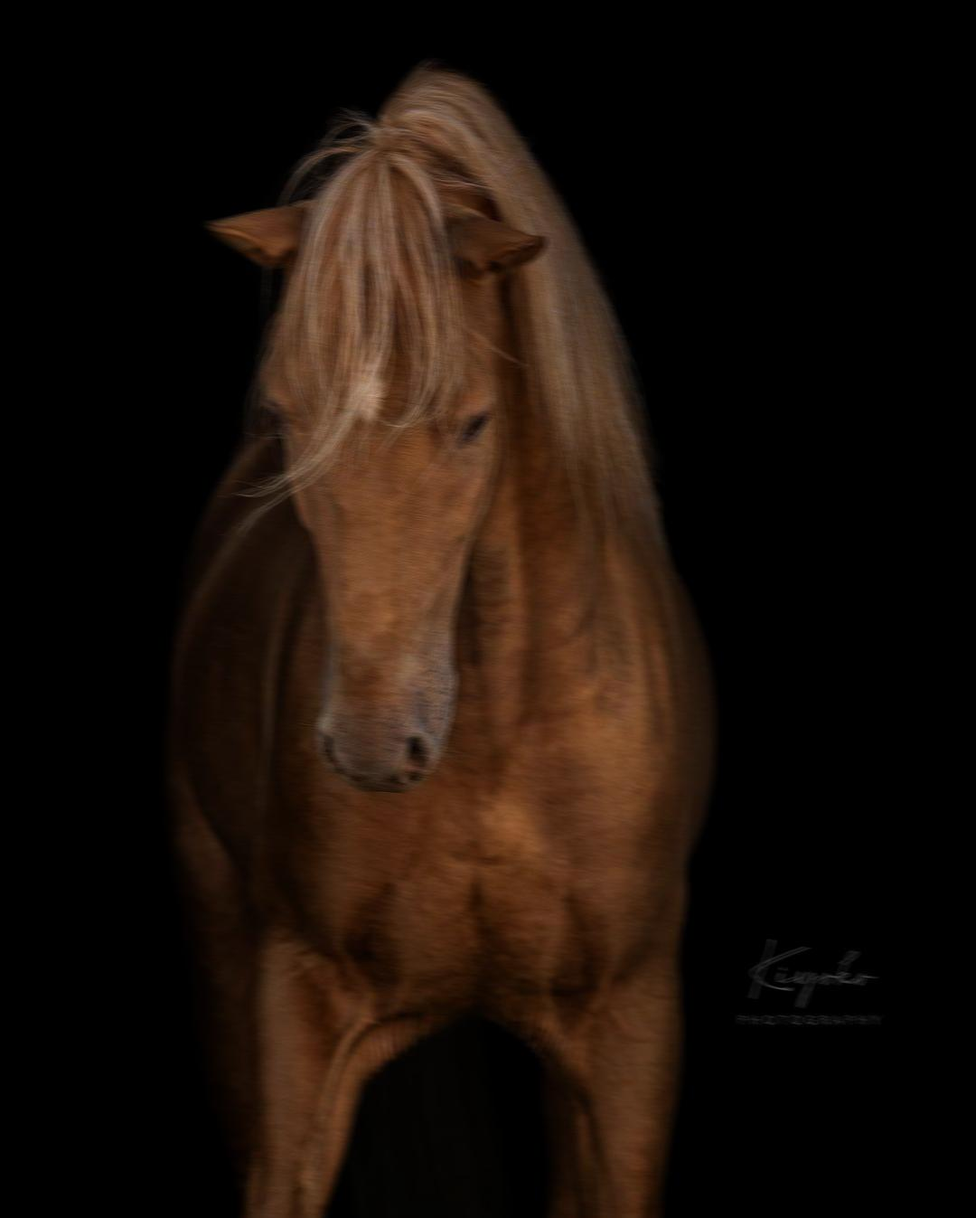horse: (160, 58, 718, 1215)
